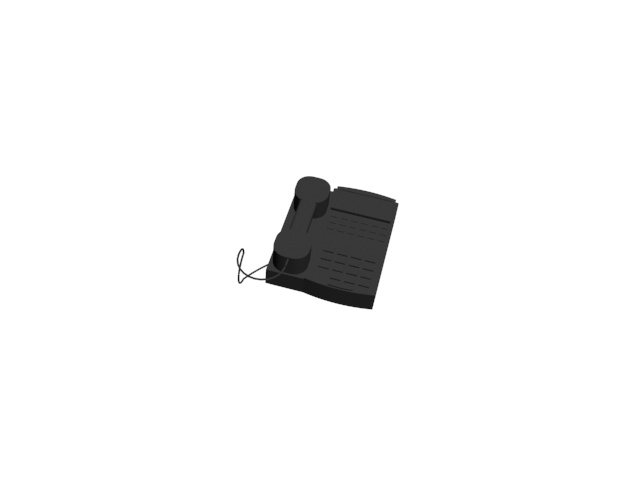phone: (233, 169, 400, 312)
